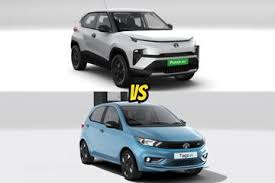Tiago: (77, 99, 207, 183)
